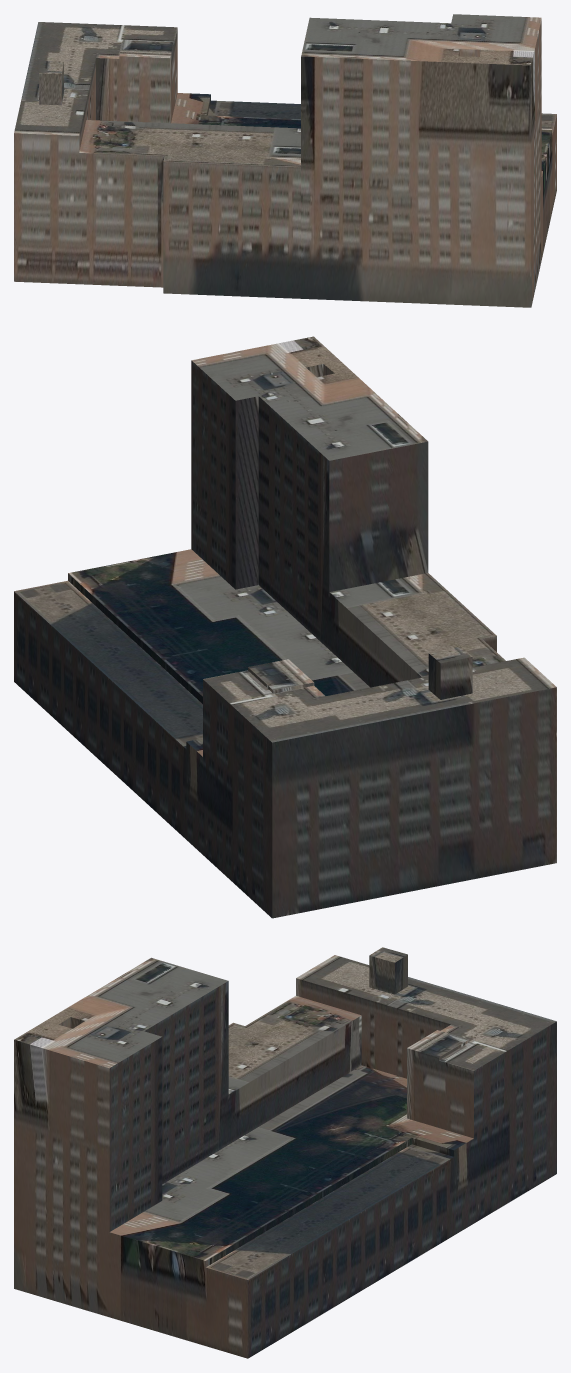
File: {A19D9C3D-9AB3-46DA-ACE6-DF670DADD921}.dae
3 views of the same model, one above another, from view 1: azimuth 30°, elevation 25°; view 2: azimuth 150°, elevation 25°; view 3: azimuth 270°, elevation 25° (orthographic). The views are drawn at different scales.
Size of the model in its own units: 82.99 by 75.81 by 38.37.
Materials: 13 (12 with a texture image).
